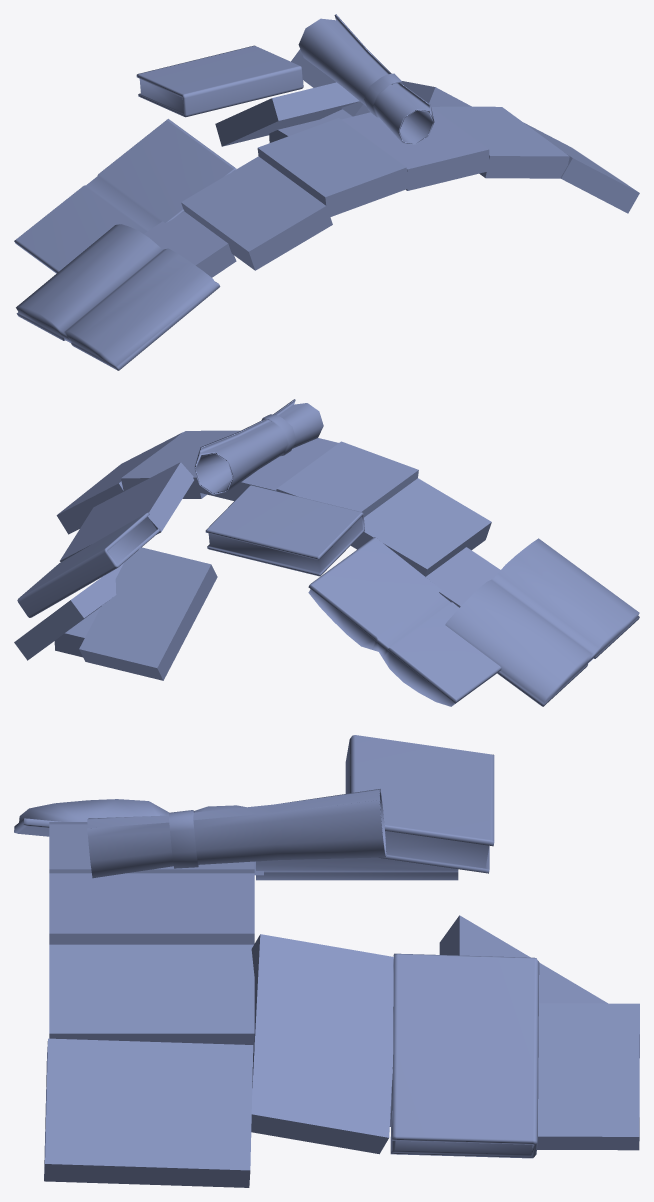
Rendered from Book_Pile_08B_Lod0.fbx.
3 views of the same model, one above another, from view 1: azimuth 30°, elevation 25°; view 2: azimuth 150°, elevation 25°; view 3: azimuth 270°, elevation 25° (orthographic). The views are drawn at different scales.
Parts seen in each view (by area): view 1: Book_Pile_08B_Lod0; view 2: Book_Pile_08B_Lod0; view 3: Book_Pile_08B_Lod0.
Boxes of the visible parts, x1,y1,x2,y2 form: Book_Pile_08B_Lod0: (14, 14, 639, 370); Book_Pile_08B_Lod0: (14, 399, 639, 706); Book_Pile_08B_Lod0: (14, 735, 639, 1187).
Bounding box in the file's own units: 145 × 52.54 × 96.1.
